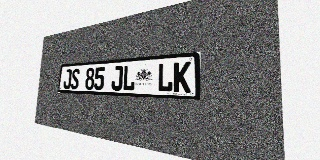5: (94, 67, 105, 90)
8: (85, 67, 95, 90)
J: (111, 66, 123, 91), (63, 69, 72, 89)
K: (173, 61, 191, 93)
L: (157, 62, 173, 92), (122, 65, 136, 91)
S: (70, 68, 80, 89)
